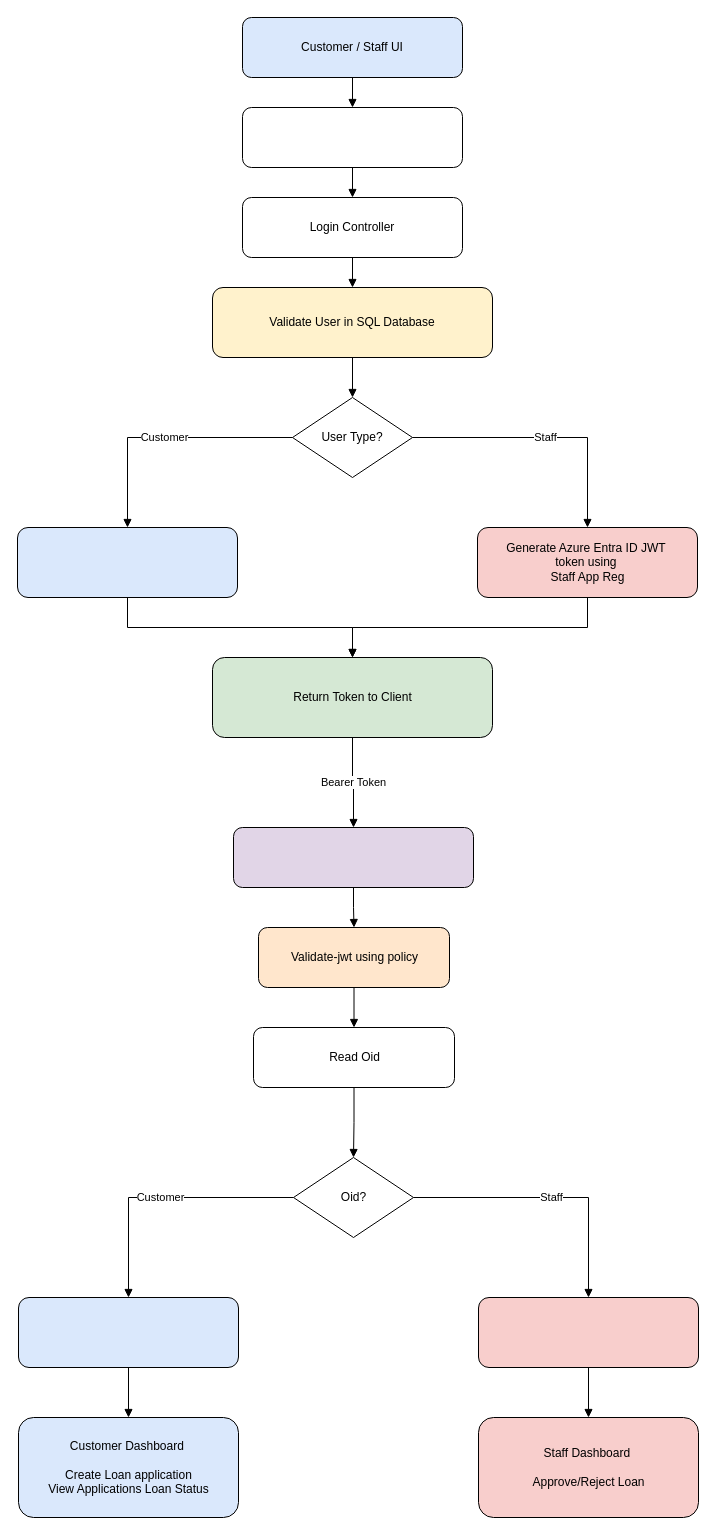
This 716x1535 diagram has some shape labels left out. The centre of each missing label's shape, as x and y in pixels:
Azure API Management: the point at 353,857
Customer API: the point at 128,1332
Generate Azure Entra ID JWT token using Customer App Reg: the point at 127,562
Login Request: the point at 352,137
Staff API: the point at 588,1332
